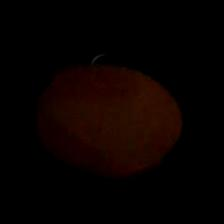fertile: (34, 58, 192, 182)
